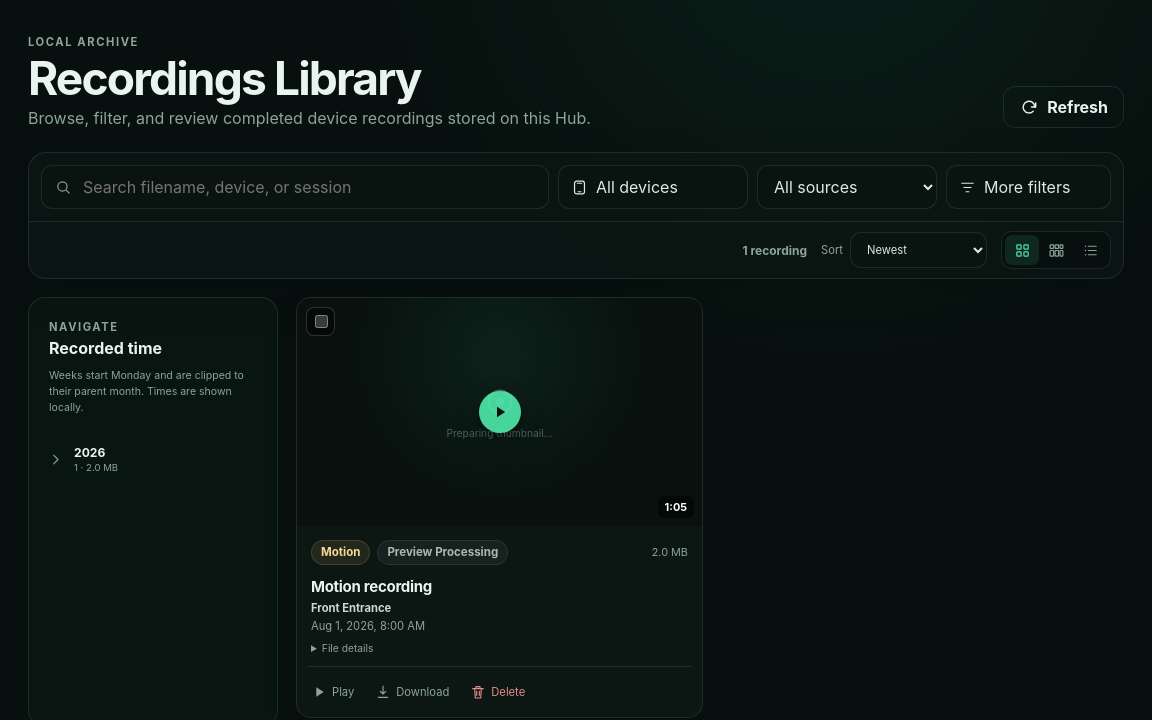
Test: recordings page › replaces the playback spinner with a clear error when recording media is unavailable
The image size is (1152, 720).
Expected: the heading "Motion recording" is shown, [311,577,432,596]
Click the button with aria-label "Play Motion recording from Front Entrance": (500, 412) [297,298,702,526]
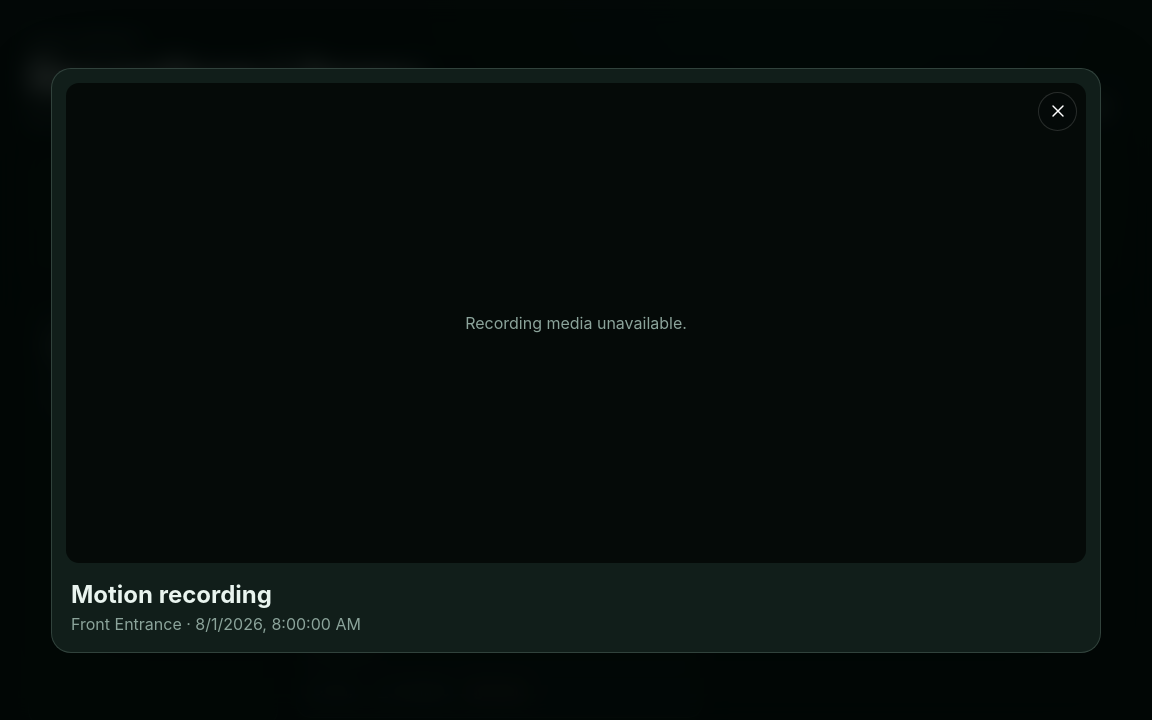
Expected: the message reads "Recording media unavailable.", [465,312,687,332]
